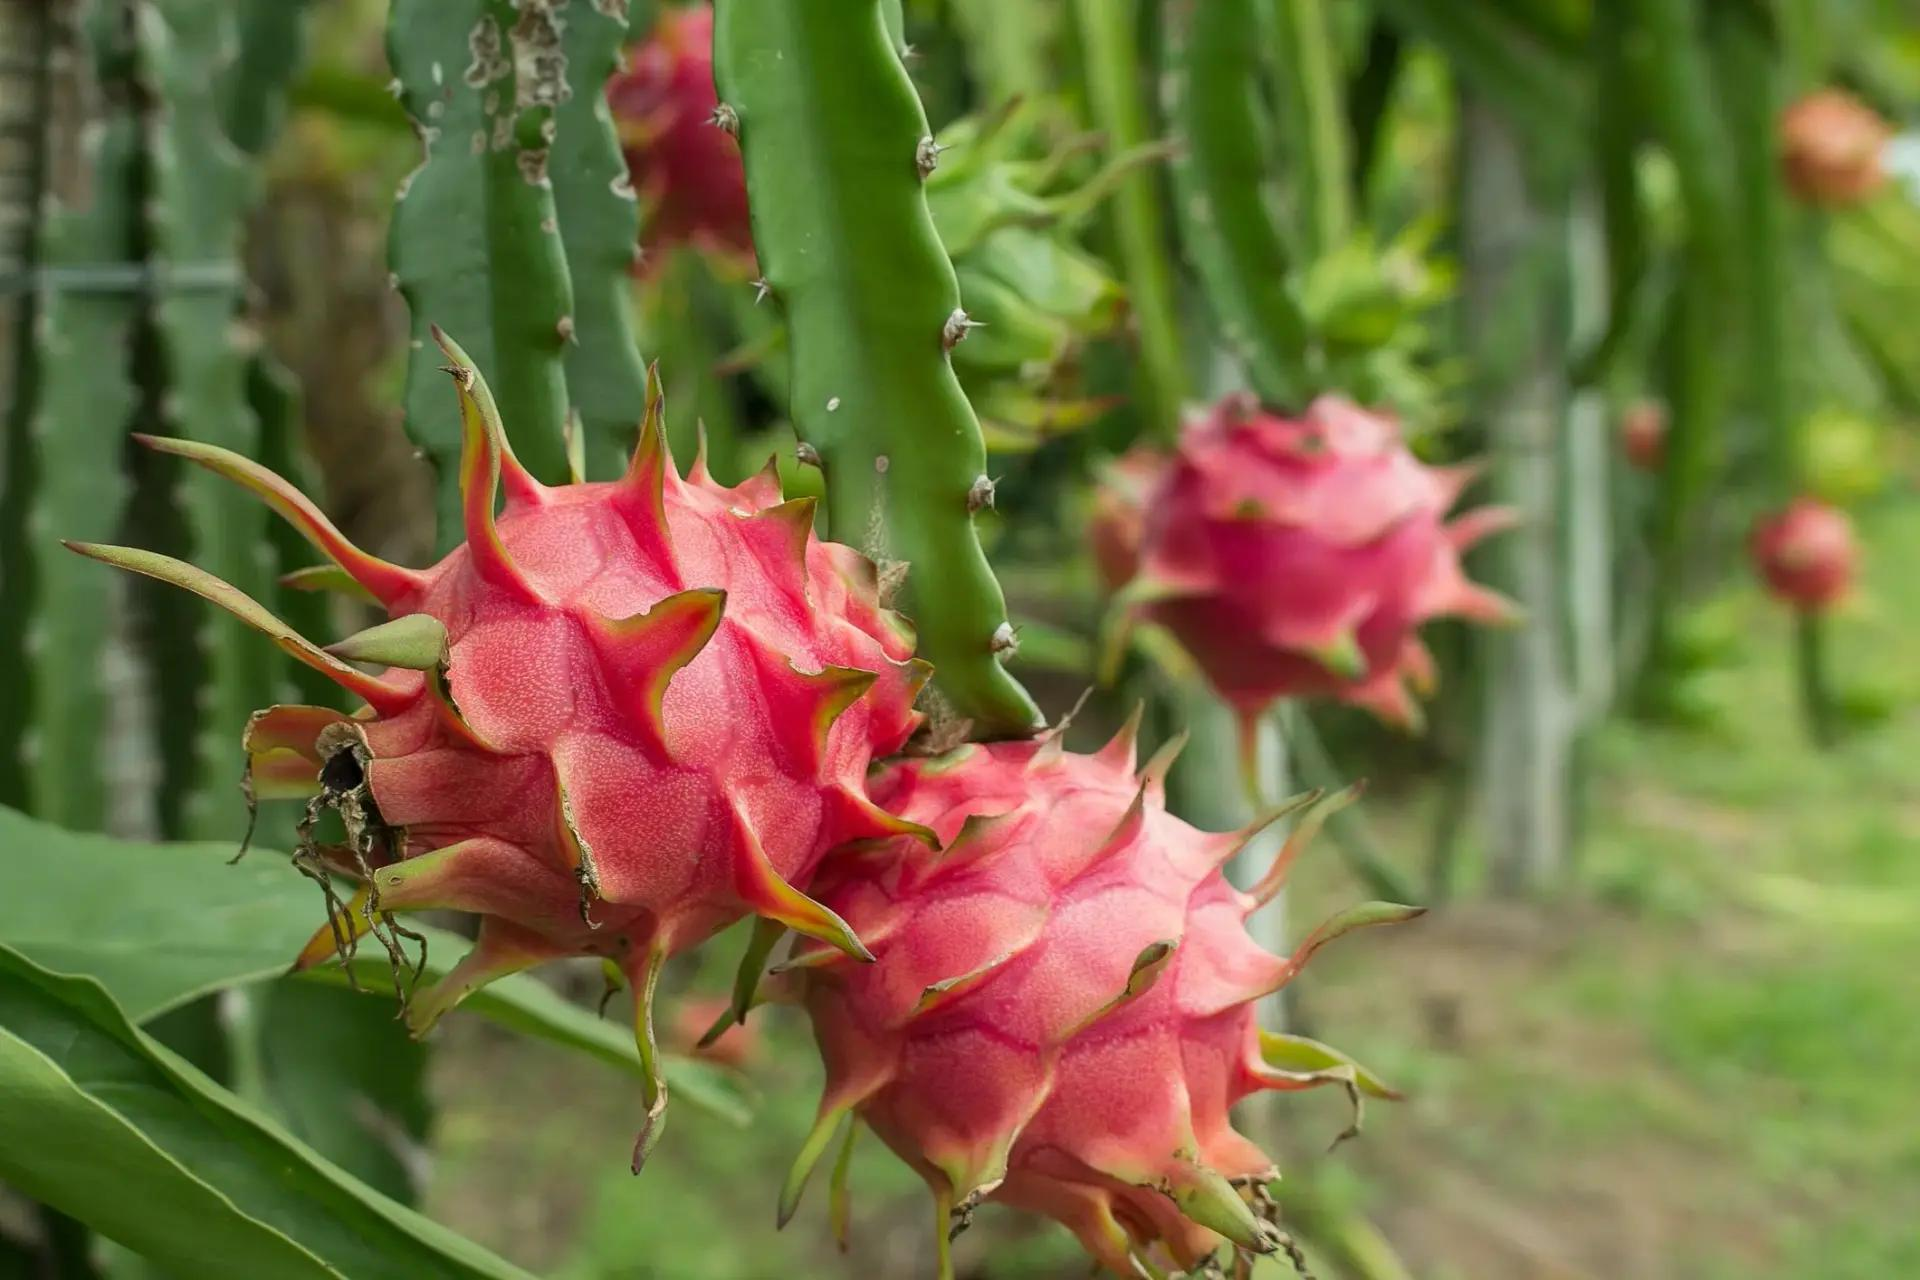dragon fruit: (106, 326, 909, 1060), (763, 720, 1394, 1280)
